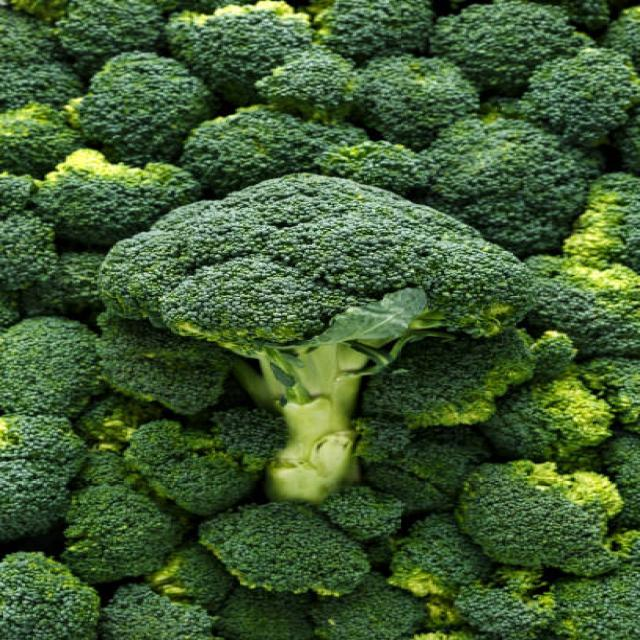Broccoli head: (123, 179, 528, 547)
